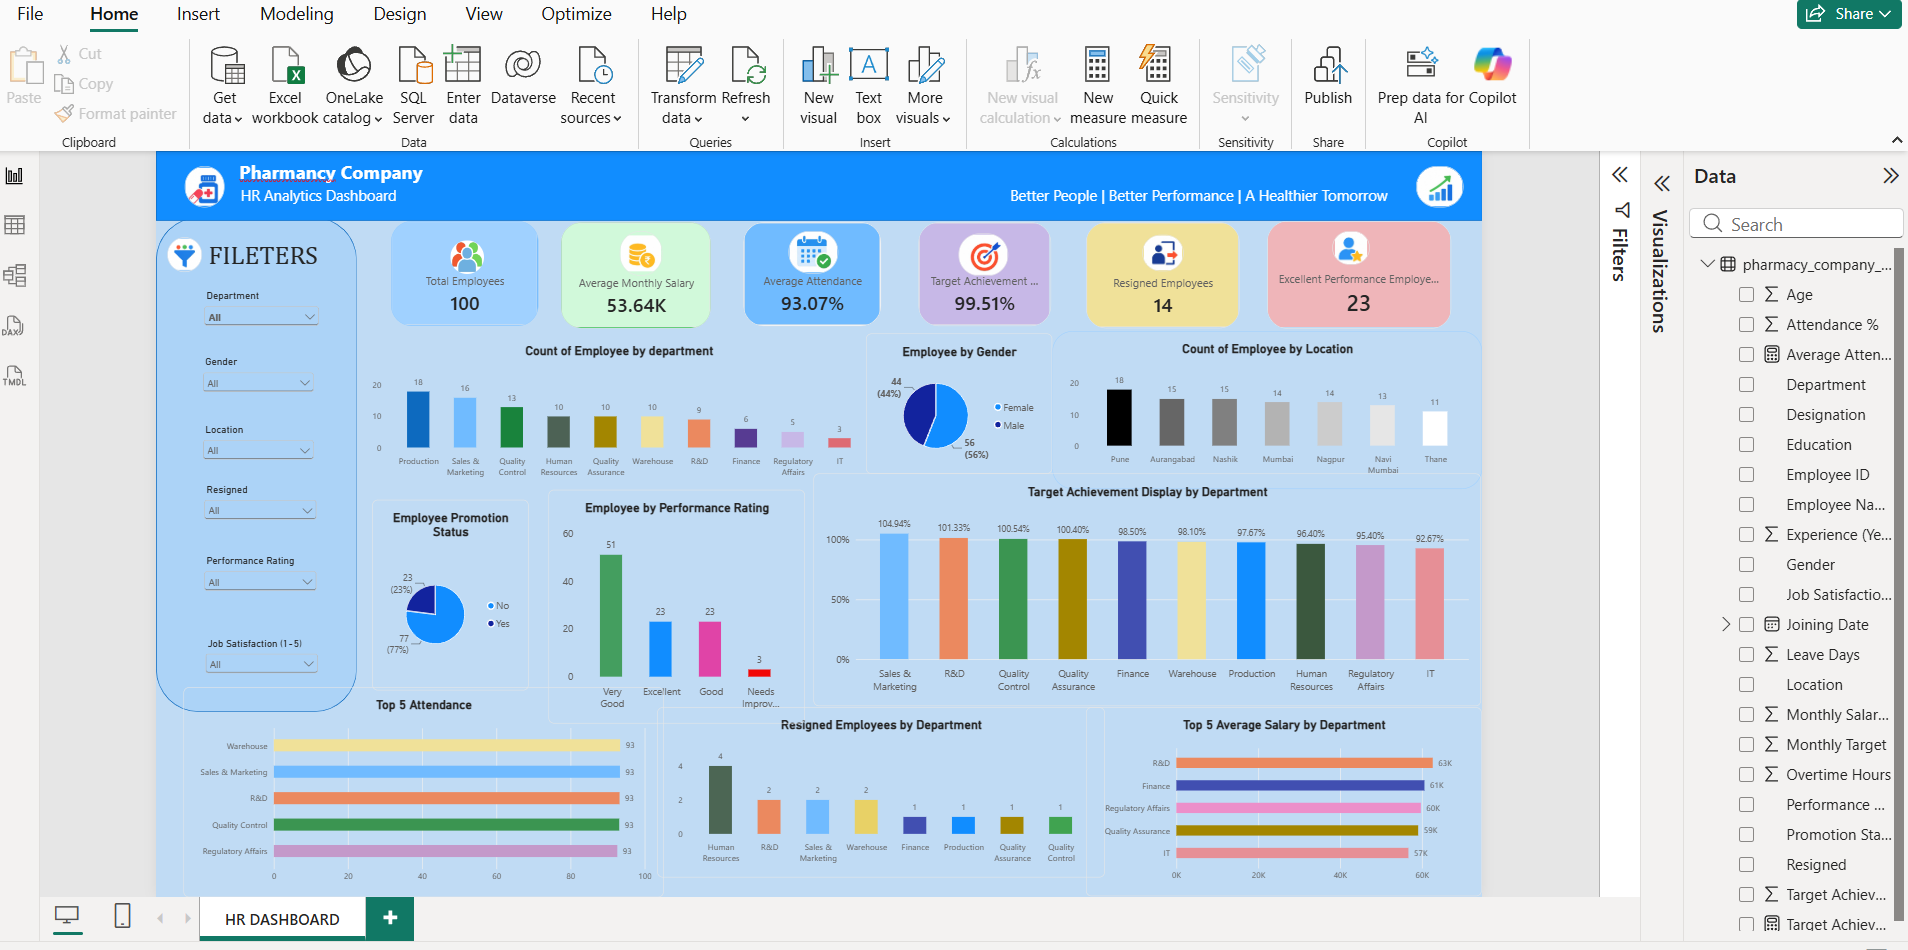

The page's visual inventory and layout, read from the dashboard file:
{"tool":"powerbi","page":{"name":"HR DASHBOARD","canvas":[1920,1080],"ordinal":0},"visuals":[{"type":"shape","box":[0,96.2,290.8,716.3],"z":0},{"type":"cardVisual","fields":{"Data":["CountNonNull(pharmacy_company_hr_dataset_100_employees.Employee ID)"]},"box":[1608.8,101.3,266,155.6],"z":1000},{"type":"shape","box":[0,0,1920.4,100.9],"z":2000},{"type":"textbox","box":[0,0,1920.4,100.9],"z":3000},{"type":"cardVisual","title":"Total Employee","fields":{"Data":["CountNonNull(pharmacy_company_hr_dataset_100_employees.Employee ID)"]},"box":[340.2,101.3,213.5,152],"z":4000},{"type":"cardVisual","fields":{"Data":["Avg(pharmacy_company_hr_dataset_100_employees.Monthly Salary (INR))"]},"box":[586.3,103.2,217.2,153.8],"z":5000},{"type":"cardVisual","fields":{"Data":["pharmacy_company_hr_dataset_100_employees.Average Attendance Display"]},"box":[850.5,103.2,199.1,150.2],"z":6000},{"type":"cardVisual","fields":{"Data":["pharmacy_company_hr_dataset_100_employees.Target Achievement Display"]},"box":[1103.9,103.2,191.8,150.2],"z":7000},{"type":"cardVisual","fields":{"Data":["CountNonNull(pharmacy_company_hr_dataset_100_employees.Employee ID)"]},"box":[1346.4,103.2,222.6,153.8],"z":8000},{"type":"clusteredColumnChart","title":"Count of  Employee by department","fields":{"Category":["pharmacy_company_hr_dataset_100_employees.Department"],"Y":["CountNonNull(pharmacy_company_hr_dataset_100_employees.Employee ID)"]},"box":[291.4,264.2,759,226.6],"z":9000},{"type":"clusteredColumnChart","title":"Count of Employee by Location","fields":{"Category":["pharmacy_company_hr_dataset_100_employees.Location"],"Y":["CountNonNull(pharmacy_company_hr_dataset_100_employees.Employee ID)"]},"box":[1297.5,260.6,622.2,228.8],"z":10000},{"type":"clusteredColumnChart","title":"Resigned Employees by Department  ","fields":{"Category":["pharmacy_company_hr_dataset_100_employees.Department"],"Y":["CountNonNull(pharmacy_company_hr_dataset_100_employees.Employee ID)"]},"box":[725.7,805.3,647.9,246.1],"z":11000},{"type":"pieChart","title":"Employee Promotion Status","fields":{"Category":["pharmacy_company_hr_dataset_100_employees.Promotion Status"],"Y":["CountNonNull(pharmacy_company_hr_dataset_100_employees.Employee ID)"]},"box":[313.1,504.9,226,276],"z":12000},{"type":"slicer","title":"Department","fields":{"Values":["pharmacy_company_hr_dataset_100_employees.Department"]},"box":[65.1,200.9,175.5,52.5],"z":13000},{"type":"textbox","box":[39.1,127.6,230.5,51.5],"z":20000},{"type":"textbox","box":[1541.6,844.5,350.6,235.2],"z":21000},{"type":"slicer","fields":{"Values":["pharmacy_company_hr_dataset_100_employees.Location"]},"box":[63.3,394.5,170.1,57.9],"z":22000},{"type":"slicer","fields":{"Values":["pharmacy_company_hr_dataset_100_employees.Gender"]},"box":[63.3,296.8,170.1,59.7],"z":23000},{"type":"slicer","fields":{"Values":["pharmacy_company_hr_dataset_100_employees.Resigned"]},"box":[65.1,481.4,171.9,57.9],"z":24000},{"type":"slicer","fields":{"Values":["pharmacy_company_hr_dataset_100_employees.Performance Rating"]},"box":[65.1,584.5,171.9,57.9],"z":25000},{"type":"slicer","fields":{"Values":["pharmacy_company_hr_dataset_100_employees.Job Satisfaction (1-5)"]},"box":[66.3,703.4,171.9,57.9],"z":26000},{"type":"clusteredBarChart","title":"Top 5 Average Salary by Department","fields":{"Category":["pharmacy_company_hr_dataset_100_employees.Department"],"Y":["Avg(pharmacy_company_hr_dataset_100_employees.Monthly Salary (INR))"]},"box":[1347,806.1,573,273.7],"z":27000},{"type":"clusteredColumnChart","title":" Employee by Performance Rating","fields":{"Category":["pharmacy_company_hr_dataset_100_employees.Performance Rating"],"Y":["CountNonNull(pharmacy_company_hr_dataset_100_employees.Employee ID)"]},"box":[568.2,490.4,371,338.4],"z":28000},{"type":"clusteredBarChart","title":"Top 5 Attendance ","fields":{"Category":["pharmacy_company_hr_dataset_100_employees.Department"],"Y":["Avg(pharmacy_company_hr_dataset_100_employees.Attendance %)"]},"box":[39.8,776.3,694.9,303.6],"z":29000},{"type":"clusteredColumnChart","fields":{"Category":["pharmacy_company_hr_dataset_100_employees.Department"],"Y":["pharmacy_company_hr_dataset_100_employees.Target Achievement Display"]},"box":[951.9,466.9,966.4,336.6],"z":30000},{"type":"pieChart","title":"Employee by Gender","fields":{"Category":["pharmacy_company_hr_dataset_100_employees.Gender"],"Y":["CountNonNull(pharmacy_company_hr_dataset_100_employees.Employee ID)"]},"box":[1027.9,264.2,269.4,203.1],"z":31000},{"type":"image","box":[425.3,128.5,50.7,50.7],"z":31001},{"type":"image","box":[671.4,115.8,61.5,65.1],"z":31002},{"type":"image","box":[915.7,115.8,72.4,61.5],"z":31003},{"type":"image","box":[1163.6,110.4,72.4,61.5],"z":31004},{"type":"image","box":[1427.8,121.2,59.7,52.5],"z":31005},{"type":"image","box":[1702.9,115.8,54.3,48.9],"z":31006},{"type":"image","box":[16.3,124.9,50.7,50.7],"z":31007},{"type":"image","box":[41.6,21.7,57.9,59.7],"z":31008},{"type":"image","box":[1824.1,21.7,68.8,59.7],"z":31009}]}

Visuals, with their boxes on the page's 1920x1080 design canvas (x1, y1, x2, y2). These are canvas units, not pixel positions in the 1908x950 screenshot, which may show the page scaled, cropped or inside an application window:
shape: 0 96 291 812
cardVisual - CountNonNull(pharmacy_company_hr_dataset_100_employees.Employee ID): 1609 101 1875 257
shape: 0 0 1920 101
textbox: 0 0 1920 101
"Total Employee" cardVisual: 340 101 554 253
cardVisual - Avg(pharmacy_company_hr_dataset_100_employees.Monthly Salary (INR)): 586 103 804 257
cardVisual - pharmacy_company_hr_dataset_100_employees.Average Attendance Display: 850 103 1050 253
cardVisual - pharmacy_company_hr_dataset_100_employees.Target Achievement Display: 1104 103 1296 253
cardVisual - CountNonNull(pharmacy_company_hr_dataset_100_employees.Employee ID): 1346 103 1569 257
"Count of  Employee by department" clusteredColumnChart: 291 264 1050 491
"Count of Employee by Location" clusteredColumnChart: 1298 261 1920 489
"Resigned Employees by Department  " clusteredColumnChart: 726 805 1374 1051
"Employee Promotion Status" pieChart: 313 505 539 781
"Department" slicer: 65 201 241 253
textbox: 39 128 270 179
textbox: 1542 844 1892 1080
slicer - pharmacy_company_hr_dataset_100_employees.Location: 63 394 233 452
slicer - pharmacy_company_hr_dataset_100_employees.Gender: 63 297 233 356
slicer - pharmacy_company_hr_dataset_100_employees.Resigned: 65 481 237 539
slicer - pharmacy_company_hr_dataset_100_employees.Performance Rating: 65 584 237 642
slicer - pharmacy_company_hr_dataset_100_employees.Job Satisfaction (1-5): 66 703 238 761
"Top 5 Average Salary by Department" clusteredBarChart: 1347 806 1920 1080
" Employee by Performance Rating" clusteredColumnChart: 568 490 939 829
"Top 5 Attendance " clusteredBarChart: 40 776 735 1080
clusteredColumnChart - pharmacy_company_hr_dataset_100_employees.Department x pharmacy_company_hr_dataset_100_employees.Target Achievement Display: 952 467 1918 804
"Employee by Gender" pieChart: 1028 264 1297 467
image: 425 128 476 179
image: 671 116 733 181
image: 916 116 988 177
image: 1164 110 1236 172
image: 1428 121 1488 174
image: 1703 116 1757 165
image: 16 125 67 176
image: 42 22 100 81
image: 1824 22 1893 81
